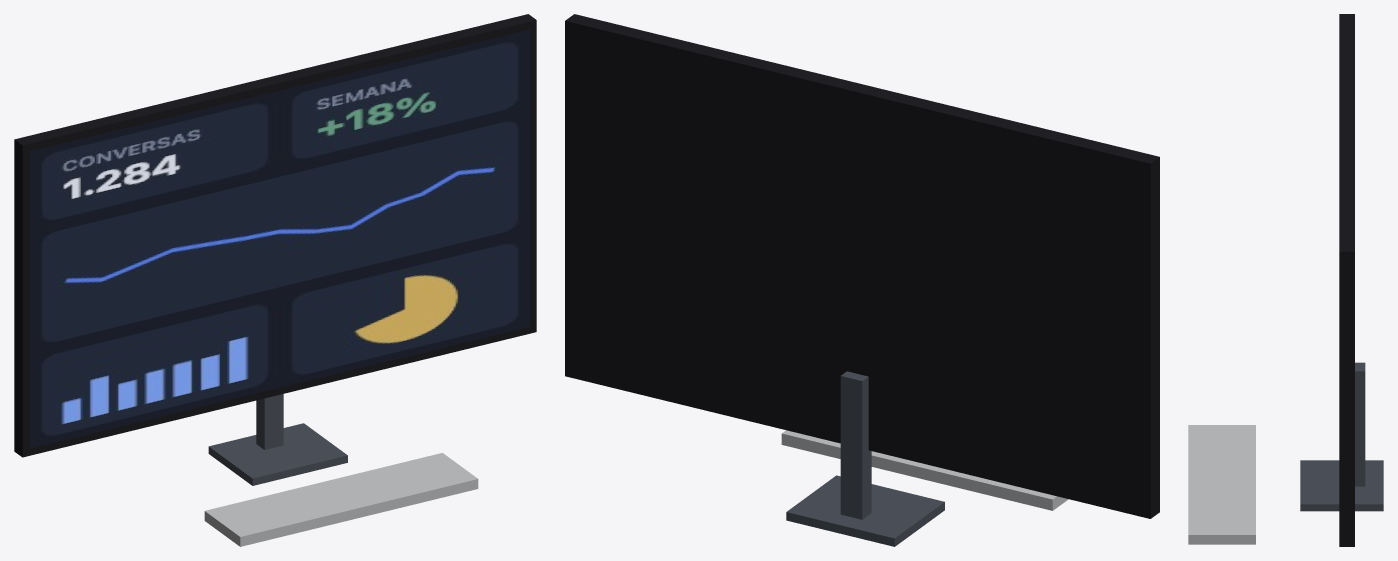
File: monitor-ultrawide.glb
3 renders of one model, left to right at view 1: azimuth 30°, elevation 25°; view 2: azimuth 150°, elevation 25°; view 3: azimuth 270°, elevation 25°, orthographic. The views are drawn at different scales.
Parts seen in each view (by area): view 1: monitor-ultrawide_malha; view 2: monitor-ultrawide_malha; view 3: monitor-ultrawide_malha.
Part boxes in pixels (x1,y1,x2,y2): monitor-ultrawide_malha: (14,14,536,546); monitor-ultrawide_malha: (565,14,1159,546); monitor-ultrawide_malha: (1188,14,1383,546).
Size of the model in its own units: 1.08 by 0.7564 by 0.375.
3 materials, 1 textured.
